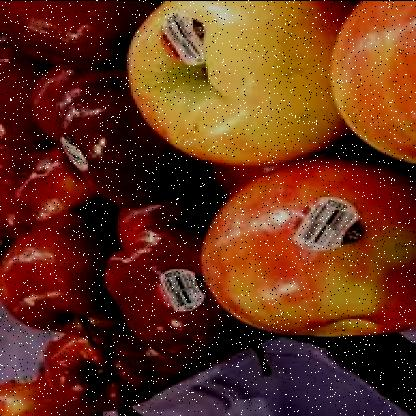apple: (202, 162, 410, 326), (118, 9, 332, 160), (50, 64, 176, 206), (103, 223, 234, 357), (0, 214, 107, 332), (38, 322, 140, 406)
